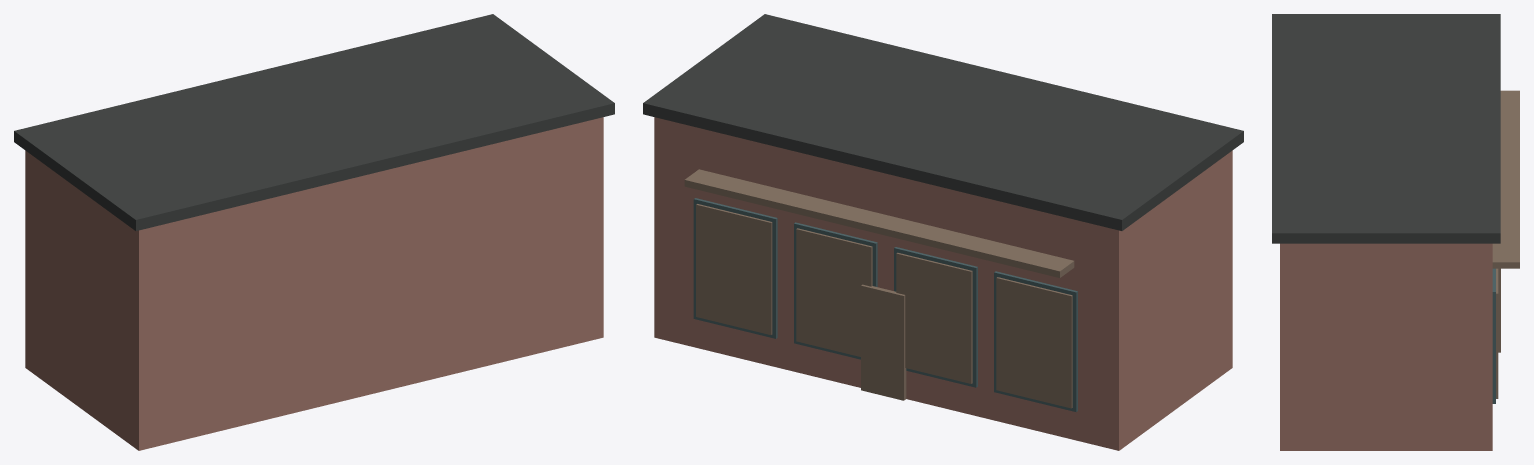
File: store_pawn.glb
3 renders of one model, left to right at view 1: azimuth 30°, elevation 25°; view 2: azimuth 150°, elevation 25°; view 3: azimuth 270°, elevation 25°, orthographic. The views are drawn at different scales.
Size of the model in its own units: 13.4 by 6.3 by 6.4.
